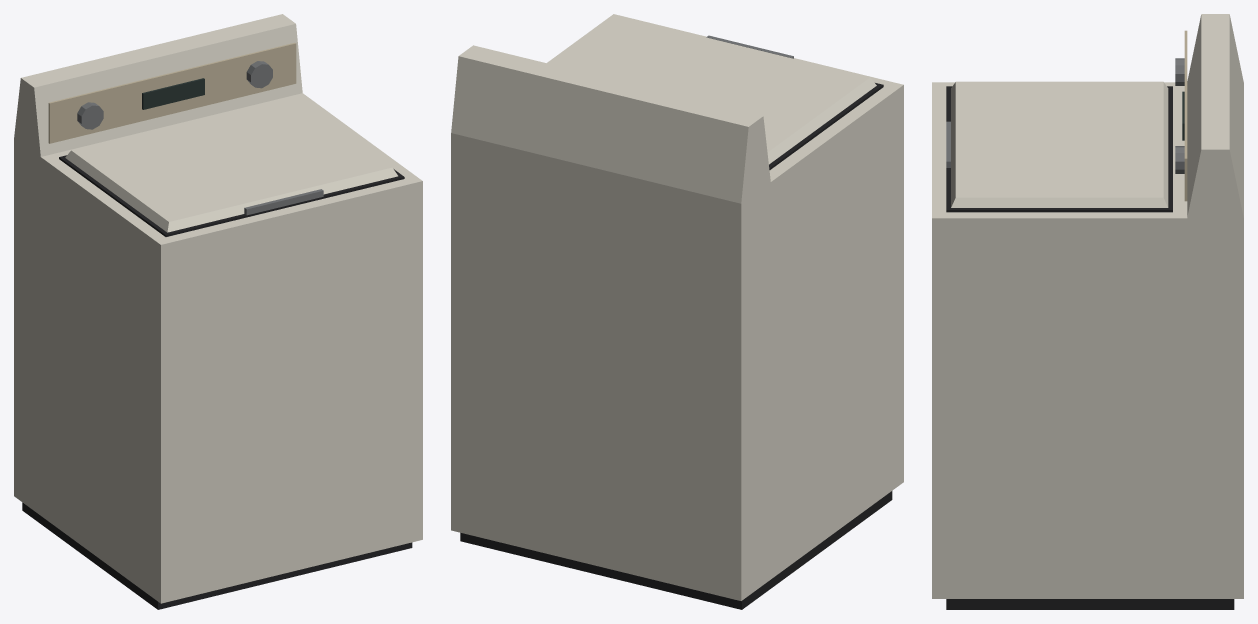
Rendered from washer.glb.
3 views of the same model, side by side, from view 1: azimuth 30°, elevation 25°; view 2: azimuth 150°, elevation 25°; view 3: azimuth 270°, elevation 25° (orthographic). The views are drawn at different scales.
Visible parts, largest first — view 1: washer; view 2: washer; view 3: washer.
Boxes of the visible parts, <box> form: washer: <box>14,14,422,609</box>; washer: <box>451,14,903,609</box>; washer: <box>932,14,1243,609</box>.
Bounding box in the file's own units: 0.68 × 1.08 × 0.66.
